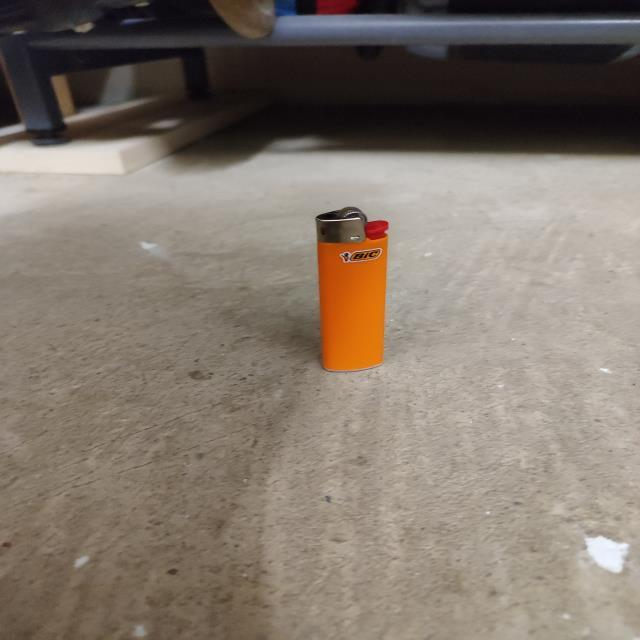lighter: (315, 207, 388, 371)
